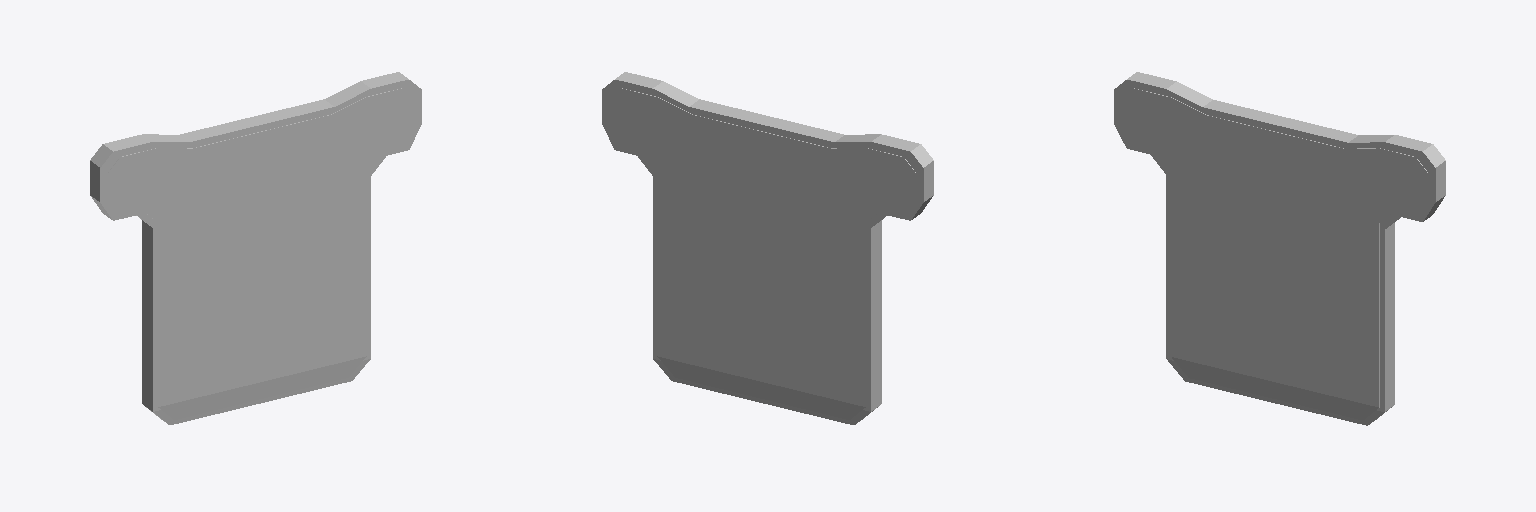
File: bread.obj
3 views of the same model, side by side, from view 1: azimuth 30°, elevation 25°; view 2: azimuth 150°, elevation 25°; view 3: azimuth 330°, elevation 25° (orthographic).
Visible parts, largest first — view 1: Cube, Cube.001; view 2: Cube, Cube.001; view 3: Cube, Cube.001.
Part boxes in pixels (x1,y1,x2,y2): Cube: (108,88,414,419); Cube.001: (90,72,421,424); Cube: (609,88,915,419); Cube.001: (602,72,933,424); Cube: (1121,88,1427,419); Cube.001: (1114,72,1445,425).
Size of the model in its own units: 0.6834 by 0.5864 by 0.0414.